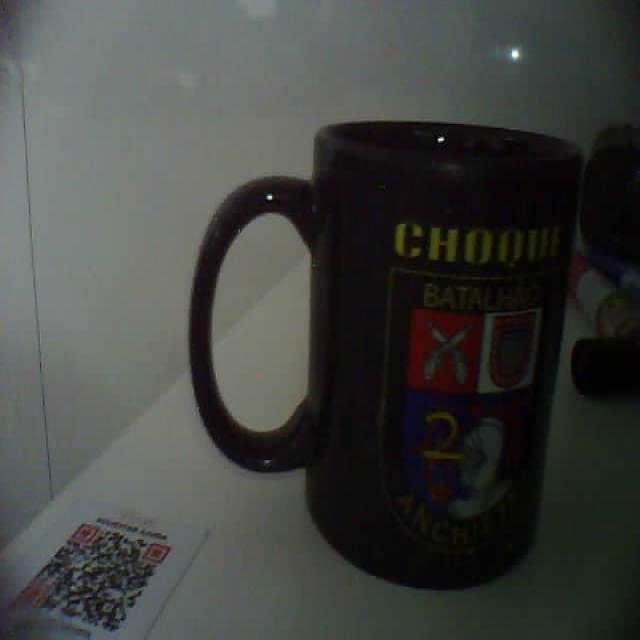caneca: (190, 121, 582, 587)
